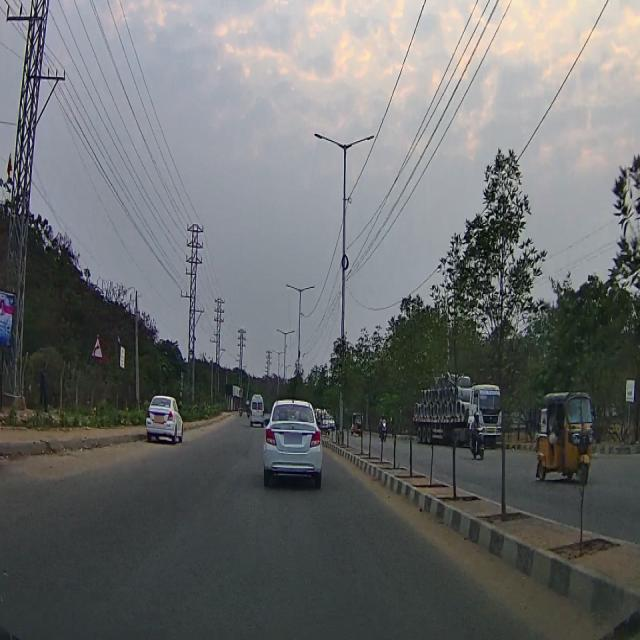car ahead at: (261, 393, 324, 492), (146, 390, 191, 448)
